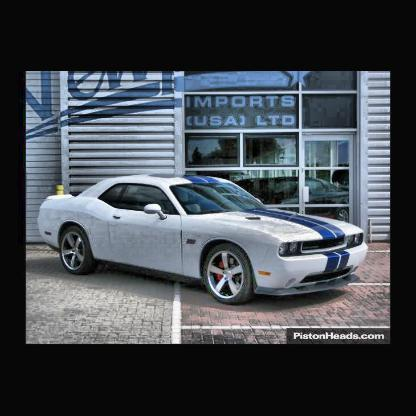Dodge Challenger SRT8 2011: (37, 175, 369, 306)
